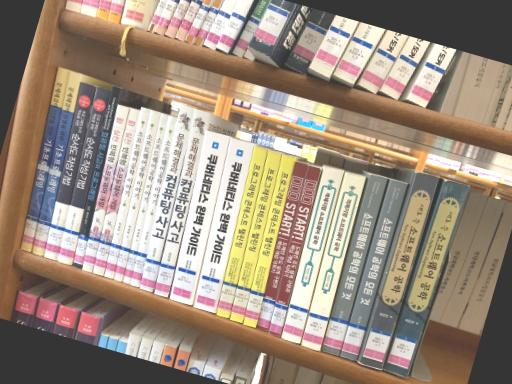book-spine: (384, 179, 471, 378), (358, 172, 440, 371), (340, 180, 407, 362), (321, 174, 387, 356), (301, 173, 366, 351), (281, 166, 345, 344), (169, 131, 231, 305), (194, 138, 255, 314), (154, 109, 210, 298), (139, 105, 195, 293), (57, 87, 110, 265), (268, 166, 323, 337), (44, 82, 96, 260), (32, 71, 82, 256), (20, 68, 69, 253), (243, 154, 295, 328), (72, 85, 121, 269), (230, 150, 282, 323), (256, 161, 308, 332), (217, 147, 268, 318), (113, 110, 160, 282), (92, 108, 140, 276), (130, 116, 177, 287), (82, 105, 129, 274), (104, 108, 150, 279), (122, 114, 168, 284)
